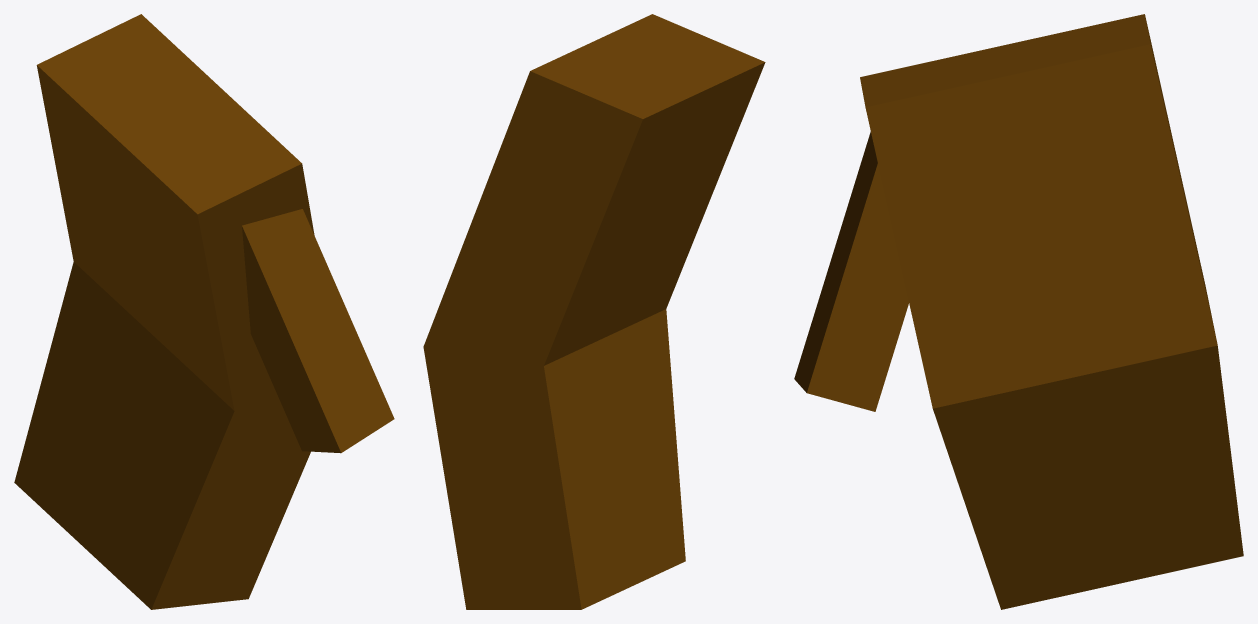
3 views of the same model, side by side, from view 1: azimuth 30°, elevation 25°; view 2: azimuth 150°, elevation 25°; view 3: azimuth 270°, elevation 25° (orthographic). The views are drawn at different scales.
Parts seen in each view (by area): view 1: 右5; view 2: 右5; view 3: 右5.
Part boxes in pixels (<box>): 右5: <box>14,14,394,609</box>; 右5: <box>423,14,765,609</box>; 右5: <box>794,14,1243,609</box>.
Size of the model in its own units: 8.31 by 21.55 by 16.
